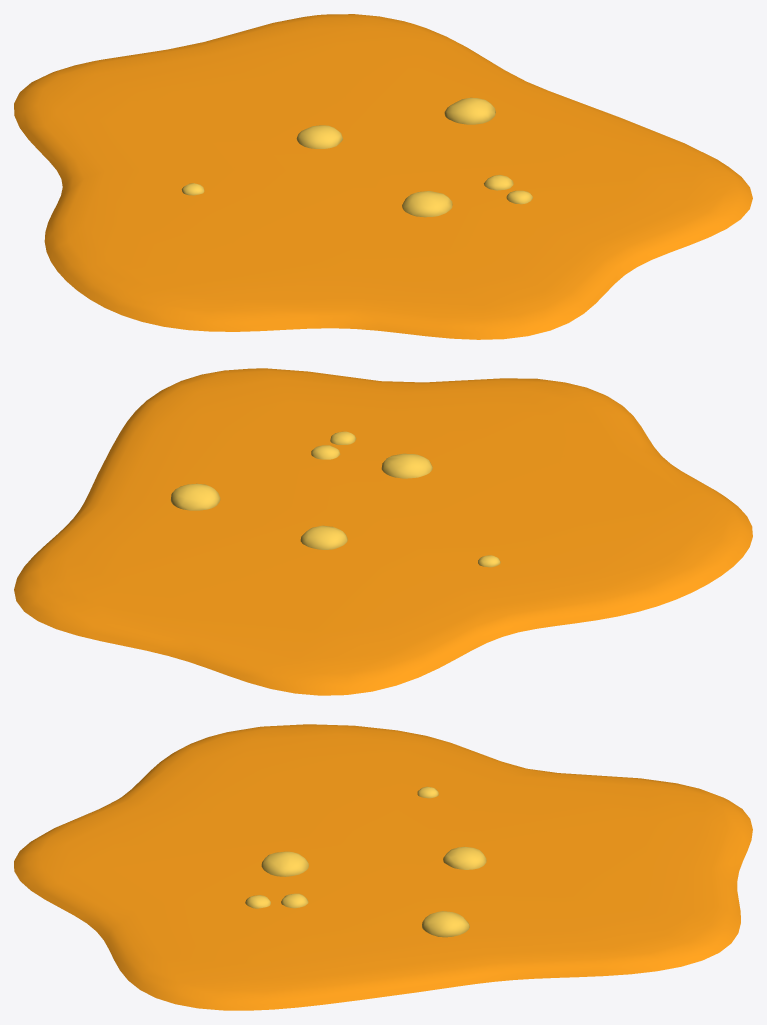
The model's file is honey.glb.
The picture shows the model from 3 angles, top to bottom: view 1: azimuth 30°, elevation 25°; view 2: azimuth 150°, elevation 25°; view 3: azimuth 270°, elevation 25°; orthographic projection. The views are drawn at different scales.
Visible parts, largest first — view 1: honey; view 2: honey; view 3: honey.
Part boxes in pixels (x1,y1,x2,y2): honey: (14,14,752,339); honey: (14,368,752,695); honey: (14,724,752,1010).
Size of the model in its own units: 3.97 by 0.1737 by 4.35.
